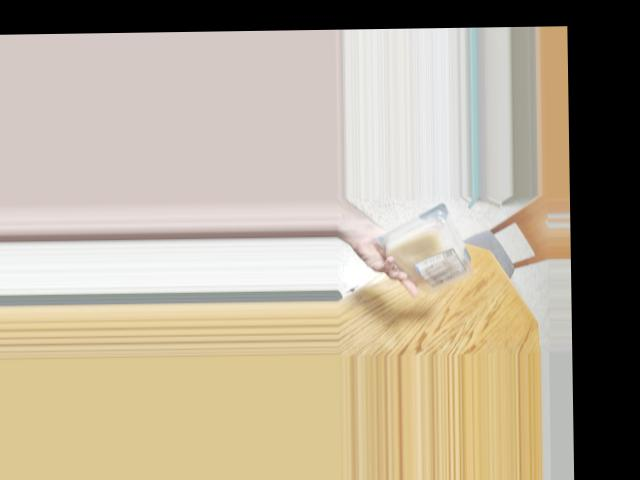cheese: (380, 214, 478, 291)
